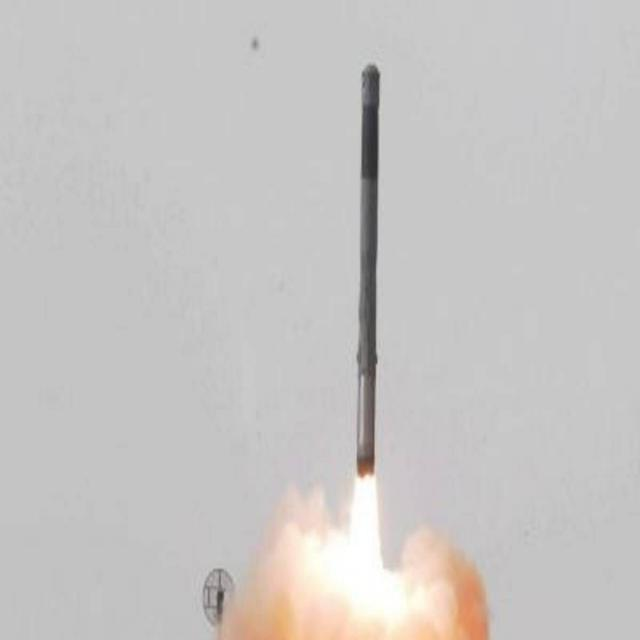missile: (350, 46, 381, 489)
